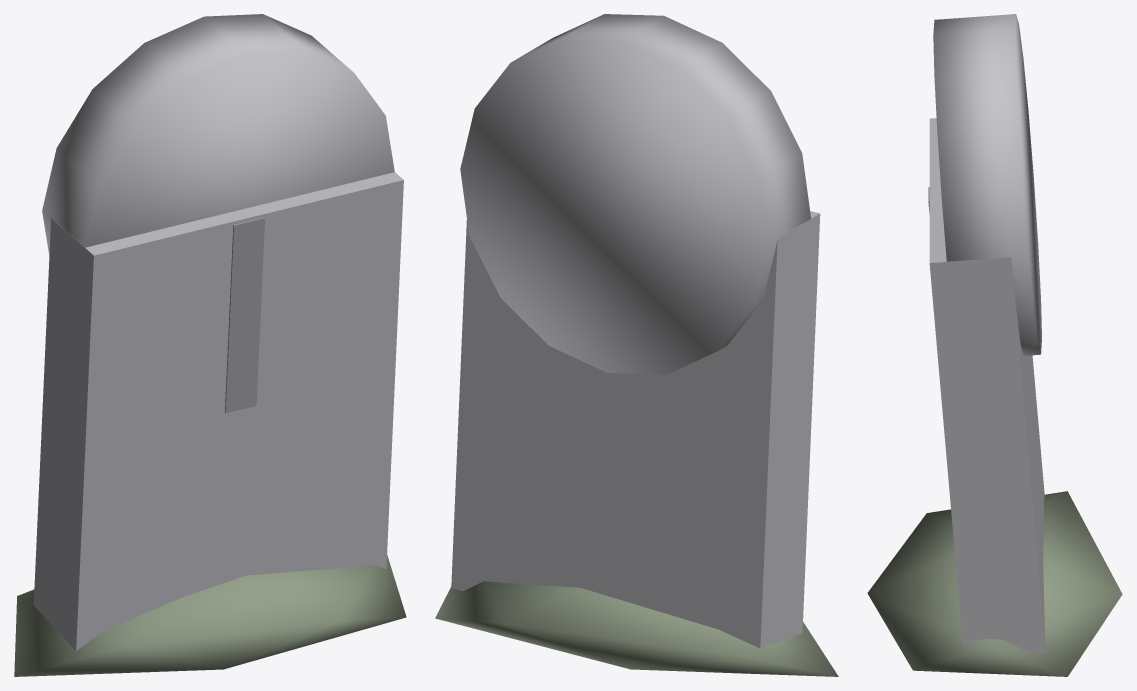
Rendered from Gravestone.gltf.
3 renders of one model, left to right at view 1: azimuth 30°, elevation 25°; view 2: azimuth 150°, elevation 25°; view 3: azimuth 270°, elevation 25°, orthographic. The views are drawn at different scales.
Parts seen in each view (by area): view 1: Gravestone; view 2: Gravestone; view 3: Gravestone.
Part boxes in pixels (x1,y1,x2,y2): Gravestone: [14, 14, 406, 676]; Gravestone: [435, 14, 838, 676]; Gravestone: [867, 14, 1122, 676].
Bounding box in the file's own units: 0.5991 × 0.9467 × 0.3733.
